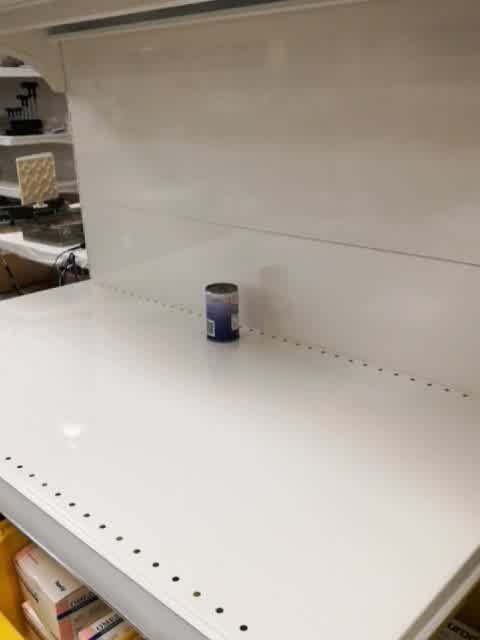sardine: (205, 281, 241, 344)
